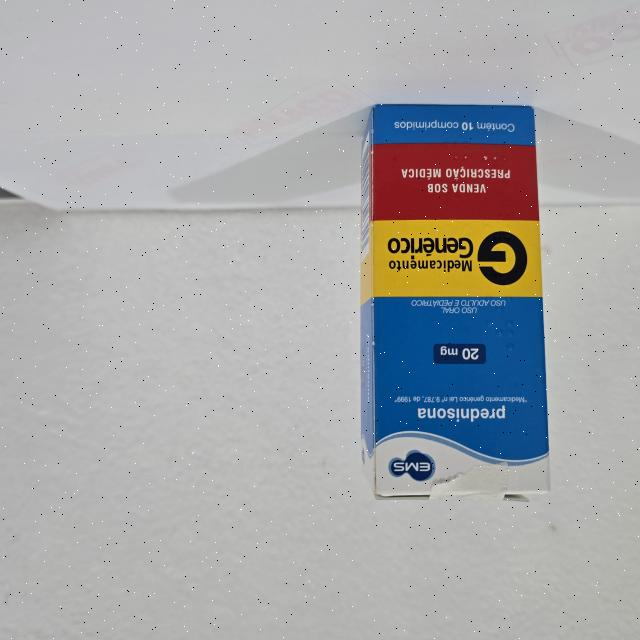prednisona: (358, 102, 554, 505)
